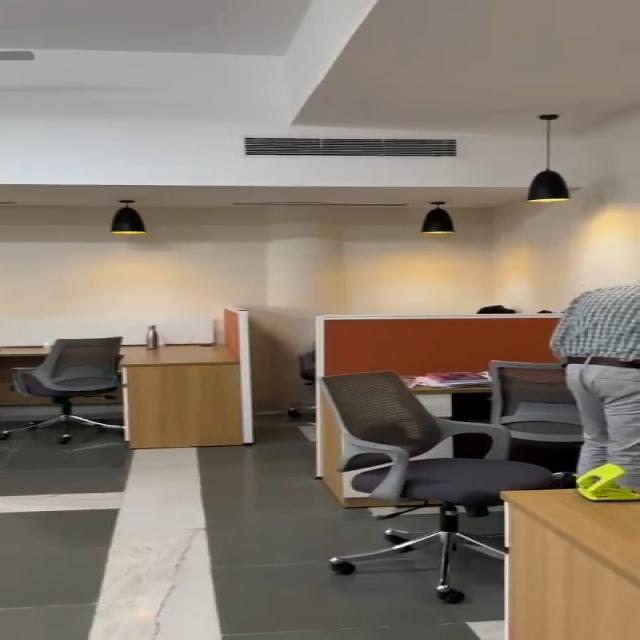floor: (0, 451, 321, 640)
furniture: (296, 363, 514, 584), (456, 349, 571, 485), (3, 320, 119, 448)
moving_object: (528, 269, 640, 485)
wall: (0, 102, 631, 294)
